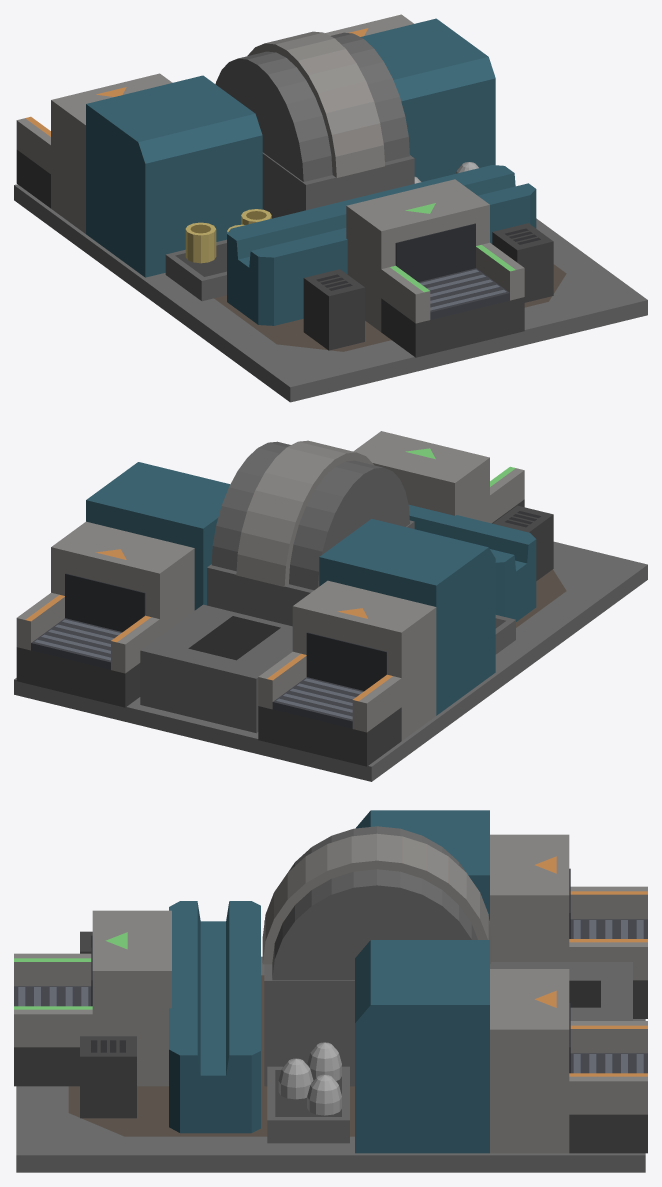
Rendered from vfef_ammo_press.obj.
3 views of the same model, one above another, from view 1: azimuth 30°, elevation 25°; view 2: azimuth 150°, elevation 25°; view 3: azimuth 270°, elevation 25° (orthographic). The views are drawn at different scales.
Visible parts, largest first — view 1: vfef_ammo_press_12, vfef_ammo_press_0, vfef_ammo_press_30, vfef_ammo_press_23, vfef_ammo_press_31, vfef_ammo_press_27, vfef_ammo_press_29, vfef_ammo_press_2, vfef_ammo_press_26, vfef_ammo_press_33, vfef_ammo_press_54, vfef_ammo_press_28 (+13 smaller); view 2: vfef_ammo_press_0, vfef_ammo_press_12, vfef_ammo_press_24, vfef_ammo_press_2, vfef_ammo_press_23, vfef_ammo_press_13, vfef_ammo_press_29, vfef_ammo_press_27, vfef_ammo_press_31, vfef_ammo_press_30, vfef_ammo_press_4, vfef_ammo_press_15 (+17 smaller); view 3: vfef_ammo_press_23, vfef_ammo_press_0, vfef_ammo_press_30, vfef_ammo_press_13, vfef_ammo_press_28, vfef_ammo_press_31, vfef_ammo_press_2, vfef_ammo_press_29, vfef_ammo_press_26, vfef_ammo_press_12, vfef_ammo_press_56, vfef_ammo_press_1 (+23 smaller).
Part boxes in pixels (left/top/right/bottom): vfef_ammo_press_12: left=86, top=75, right=262, bottom=277; vfef_ammo_press_0: left=14, top=184, right=647, bottom=402; vfef_ammo_press_30: left=227, top=165, right=536, bottom=325; vfef_ammo_press_23: left=360, top=18, right=495, bottom=181; vfef_ammo_press_31: left=346, top=179, right=489, bottom=331; vfef_ammo_press_27: left=215, top=51, right=332, bottom=181; vfef_ammo_press_29: left=247, top=31, right=384, bottom=177; vfef_ammo_press_2: left=51, top=73, right=172, bottom=233; vfef_ammo_press_26: left=262, top=152, right=414, bottom=218; vfef_ammo_press_33: left=381, top=297, right=524, bottom=357; vfef_ammo_press_54: left=303, top=269, right=364, bottom=350; vfef_ammo_press_28: left=330, top=32, right=409, bottom=162; vfef_ammo_press_0: left=14, top=541, right=647, bottom=781; vfef_ammo_press_12: left=319, top=518, right=495, bottom=715; vfef_ammo_press_24: left=140, top=604, right=292, bottom=733; vfef_ammo_press_2: left=292, top=580, right=436, bottom=740; vfef_ammo_press_23: left=86, top=462, right=230, bottom=610; vfef_ammo_press_13: left=51, top=521, right=194, bottom=635; vfef_ammo_press_29: left=236, top=440, right=373, bottom=586; vfef_ammo_press_27: left=289, top=460, right=409, bottom=590; vfef_ammo_press_31: left=353, top=431, right=489, bottom=522; vfef_ammo_press_30: left=408, top=504, right=536, bottom=621; vfef_ammo_press_4: left=258, top=706, right=401, bottom=766; vfef_ammo_press_15: left=16, top=647, right=140, bottom=707; vfef_ammo_press_23: left=355, top=940, right=489, bottom=1153; vfef_ammo_press_0: left=16, top=956, right=645, bottom=1172; vfef_ammo_press_30: left=169, top=901, right=260, bottom=1133; vfef_ammo_press_13: left=490, top=969, right=569, bottom=1153; vfef_ammo_press_28: left=272, top=869, right=477, bottom=980; vfef_ammo_press_31: left=92, top=910, right=171, bottom=1086; vfef_ammo_press_2: left=490, top=834, right=569, bottom=961; vfef_ammo_press_29: left=262, top=833, right=491, bottom=964; vfef_ammo_press_26: left=264, top=920, right=489, bottom=1086; vfef_ammo_press_12: left=356, top=810, right=489, bottom=920; vfef_ammo_press_56: left=80, top=1036, right=136, bottom=1118; vfef_ammo_press_1: left=68, top=975, right=354, bottom=1136.
Size of the model in its own units: 2.96 by 1.57 by 3.99.
